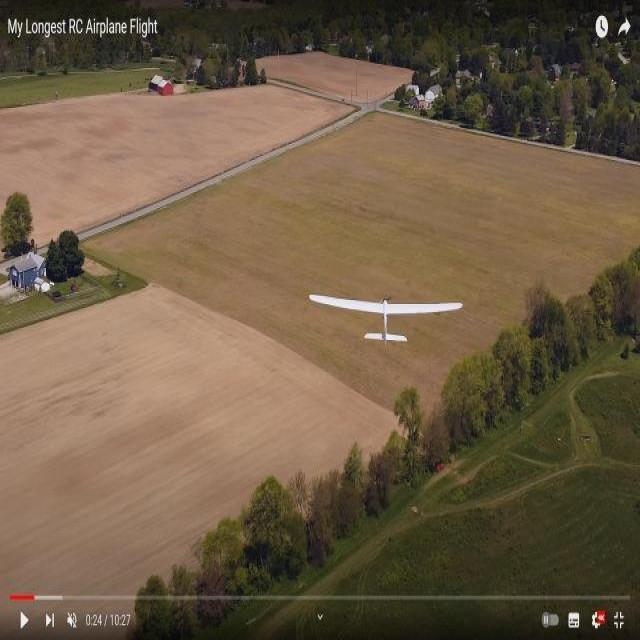iha: (310, 290, 465, 345)
